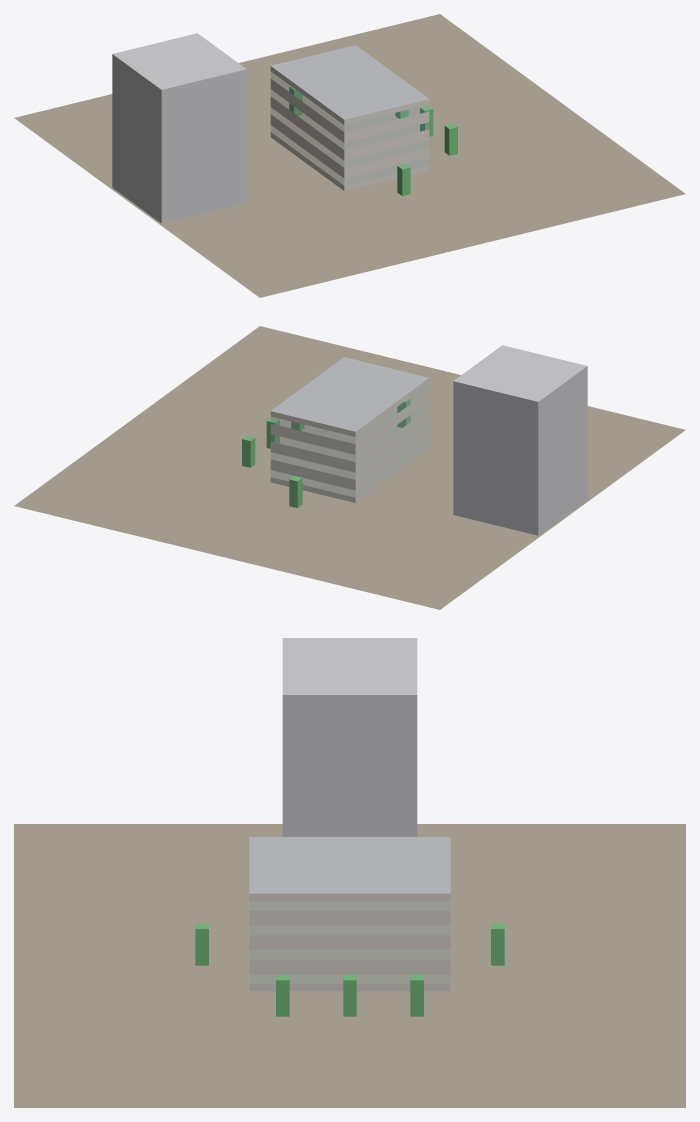
The picture shows the model from 3 angles, top to bottom: view 1: azimuth 30°, elevation 25°; view 2: azimuth 150°, elevation 25°; view 3: azimuth 270°, elevation 25°; orthographic projection. The views are drawn at different scales.
Visible parts, largest first — view 1: Tanah, Bangunan Tetangga, Dinding Bata, Atap Beton, Kaca Jendela, Pohon; view 2: Tanah, Bangunan Tetangga, Dinding Bata, Atap Beton, Kaca Jendela, Pohon; view 3: Tanah, Bangunan Tetangga, Dinding Bata, Atap Beton, Kaca Jendela, Pohon.
Part boxes in pixels (x1,y1,x2,y2): Tanah: (14, 14, 685, 297); Bangunan Tetangga: (112, 33, 246, 223); Dinding Bata: (270, 66, 429, 190); Atap Beton: (271, 45, 428, 119); Kaca Jendela: (271, 72, 428, 185); Pohon: (289, 86, 457, 195); Tanah: (14, 326, 685, 609); Bangunan Tetangga: (453, 345, 587, 535); Dinding Bata: (270, 378, 429, 502); Atap Beton: (271, 357, 428, 431); Kaca Jendela: (271, 384, 428, 497); Pohon: (242, 398, 410, 507); Tanah: (14, 824, 685, 1107); Bangunan Tetangga: (282, 638, 417, 836); Dinding Bata: (249, 893, 450, 991); Atap Beton: (249, 837, 450, 893); Kaca Jendela: (249, 901, 450, 983); Pohon: (195, 923, 504, 1016).
Bounding box in the file's own units: 100 × 30.5 × 100.
